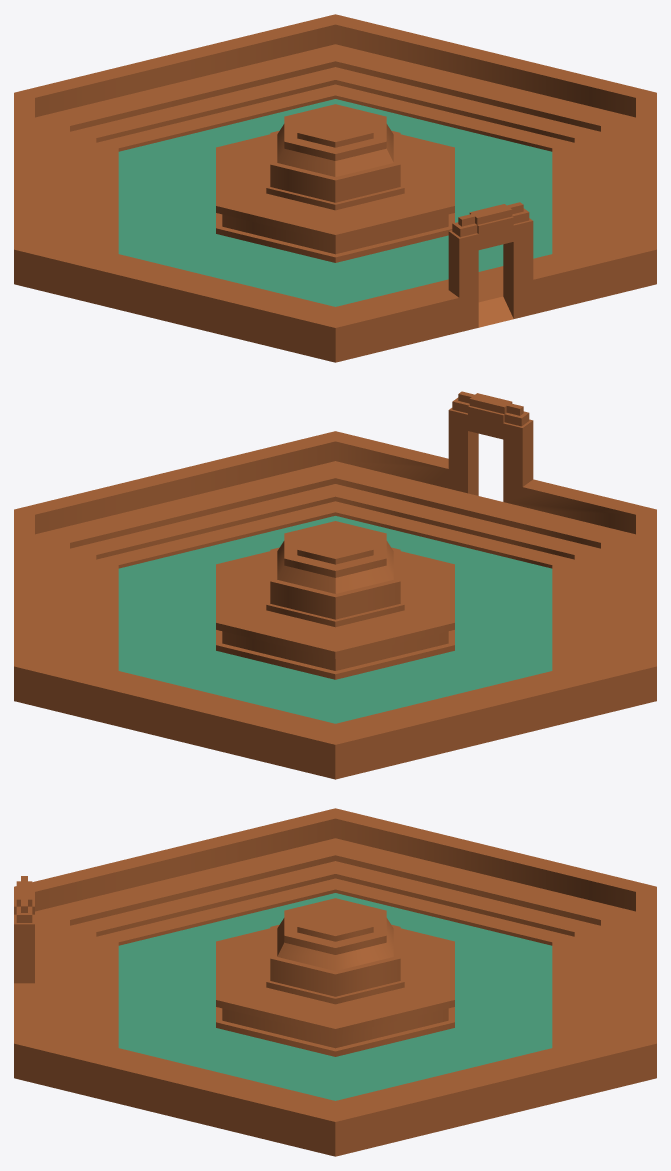
Rendered from MJ_Building_BathHouse.fbx.
The picture shows the model from 3 angles, top to bottom: view 1: azimuth 30°, elevation 25°; view 2: azimuth 150°, elevation 25°; view 3: azimuth 270°, elevation 25°; orthographic projection.
Visible parts, largest first — view 1: Model; view 2: Model; view 3: Model.
Boxes of the visible parts, x1,y1,x2,y2 form: Model: (14, 14, 656, 362); Model: (14, 391, 656, 779); Model: (14, 808, 656, 1156).
Bounding box in the file's own units: 5.82 × 0.94 × 5.04.
